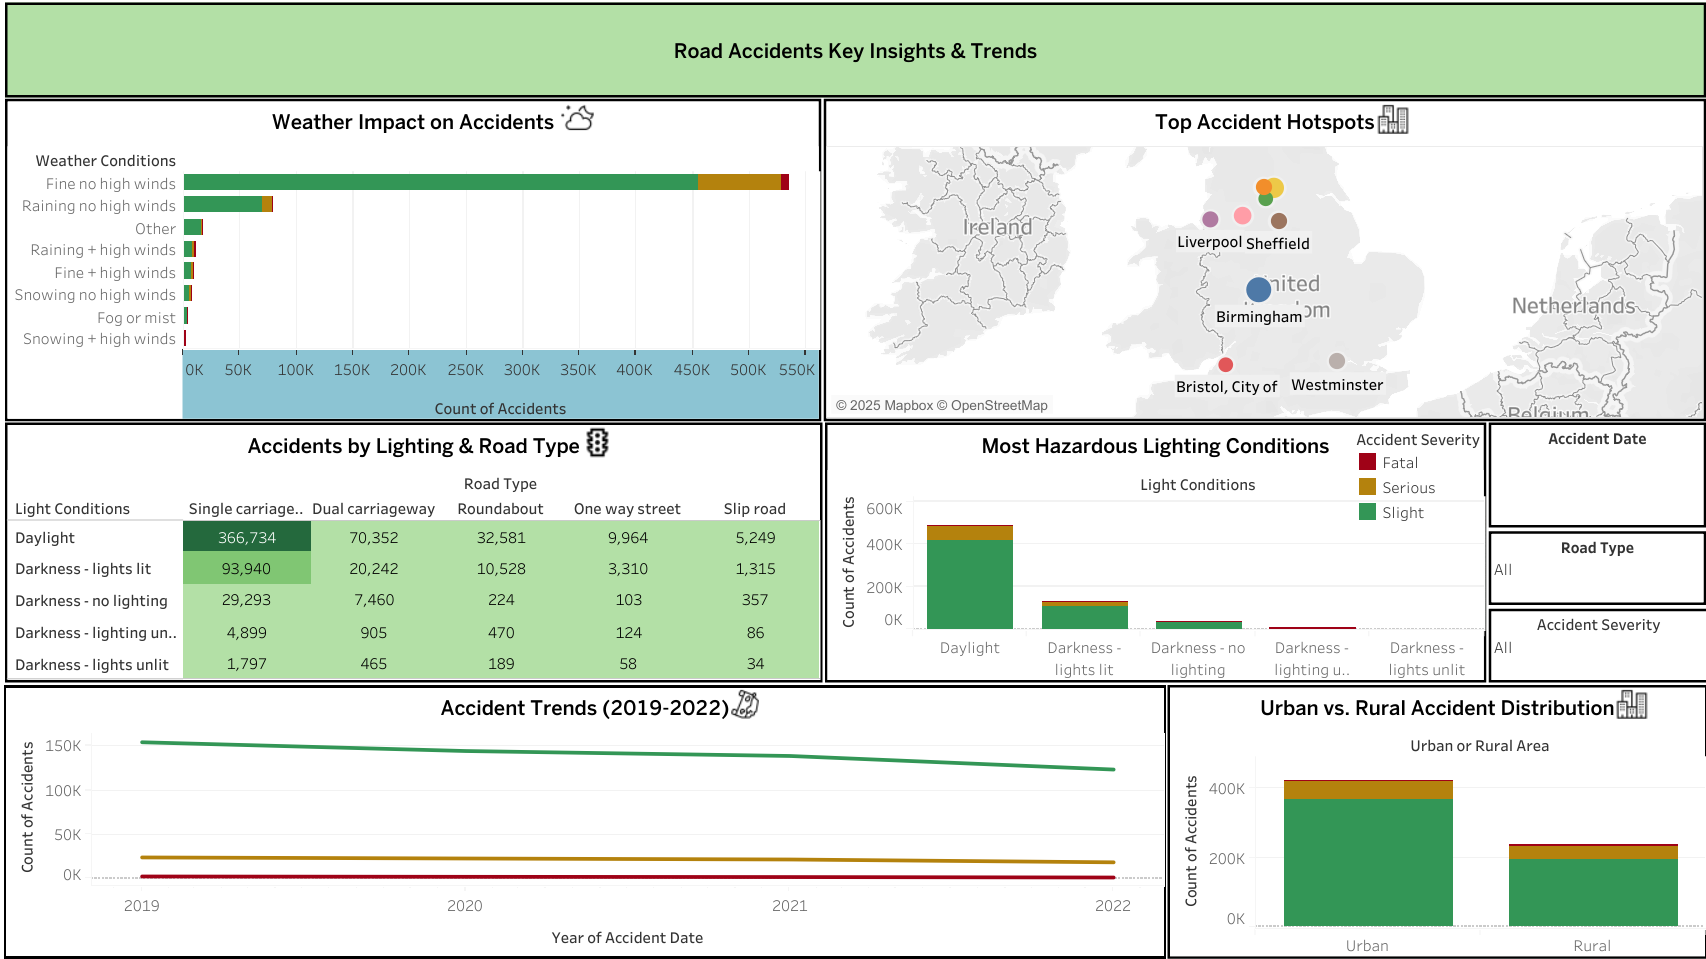

The page's visual inventory and layout, read from the dashboard file:
{"tool":"tableau","page":{"name":"Dashboard 1","canvas":[1366,768],"ordinal":0},"visuals":[{"type":"text","box":[4,2,1361,76]},{"type":"worksheet","title":"Weather Impact on Accidents ","mark":"Automatic","rows":["Weather_Conditions"],"cols":["Index"],"box":[4,79,653,258]},{"type":"worksheet","title":"Top Accident Hotspots ","mark":"Automatic","rows":["Latitude"],"cols":["Longitude"],"box":[659,79,706,258]},{"type":"image","param":"C:/Users/Administrator/Downloads/icons8-night-100.png","box":[448,81,42,28]},{"type":"image","param":"C:/Users/Administrator/Downloads/icons8-city-buildings-100 (2).png","box":[1101,82,28,27]},{"type":"worksheet","title":"Accidents by Lighting & Road Type","mark":"Square","rows":["Light_Conditions"],"cols":["Road_Type"],"box":[4,338,654,208]},{"type":"worksheet","title":"Most Hazardous Lighting Conditions ","mark":"Automatic","rows":["Index"],"cols":["Light_Conditions"],"box":[660,338,529,208]},{"type":"filter","title":"Weather Impact on Accidents ","param":"[federated.1kmvjg31wdhm231ewrnr31y4c3ax].[none:Accident Date:qk]","box":[1191,338,174,84]},{"type":"image","param":"C:/Users/Administrator/Downloads/icons8-traffic-light-32.png","box":[463,339,30,32]},{"type":"legend","title":"Most Hazardous Lighting Conditions ","param":"[federated.1kmvjg31wdhm231ewrnr31y4c3ax].[none:Accident_Severity:nk]","box":[1084,340,102,79]},{"type":"filter","title":"Urban vs. Rural Accident Distribution ","param":"[federated.1kmvjg31wdhm231ewrnr31y4c3ax].[none:Road_Type:nk]","box":[1191,425,174,59]},{"type":"filter","title":"Accident Trends (2019-2022) ","param":"[federated.1kmvjg31wdhm231ewrnr31y4c3ax].[mn:Accident Date:ok]","box":[404,465,170,65]},{"type":"filter","title":"Most Hazardous Lighting Conditions ","param":"[federated.1kmvjg31wdhm231ewrnr31y4c3ax].[none:Accident_Severity:nk]","box":[1191,487,176,59]},{"type":"worksheet","title":"Accident Trends (2019-2022) ","mark":"Automatic","rows":["Index"],"cols":["Accident Date"],"box":[3,548,930,219]},{"type":"worksheet","title":"Urban vs. Rural Accident Distribution ","mark":"Automatic","rows":["Index"],"cols":["Urban_or_Rural_Area"],"box":[934,548,432,219]},{"type":"image","param":"C:/Users/ADMINI~1/AppData/Local/Temp/TableauTemp/1szf7ei0sukdg715kyzlg1ltds11/Sh","box":[1292,550,28,27]},{"type":"image","param":"C:/Users/Administrator/Downloads/icons8-traffic-accident-100.png","box":[584,551,30,25]}]}

Visuals, with their boxes in screenshot pixels (x1, y1, x2, y2), scaled from the page's 1366x768 canvas onto the 1706x959 screenshot:
text: <region>5, 2, 1705, 97</region>
"Weather Impact on Accidents " worksheet: <region>5, 99, 821, 421</region>
"Top Accident Hotspots " worksheet: <region>823, 99, 1705, 421</region>
image: <region>560, 101, 612, 136</region>
image: <region>1375, 102, 1410, 136</region>
"Accidents by Lighting & Road Type" worksheet (Square marks): <region>5, 422, 822, 682</region>
"Most Hazardous Lighting Conditions " worksheet: <region>824, 422, 1485, 682</region>
"Weather Impact on Accidents " filter: <region>1487, 422, 1705, 527</region>
image: <region>578, 423, 616, 463</region>
"Most Hazardous Lighting Conditions " legend: <region>1354, 425, 1481, 523</region>
"Urban vs. Rural Accident Distribution " filter: <region>1487, 531, 1705, 604</region>
"Accident Trends (2019-2022) " filter: <region>505, 581, 717, 662</region>
"Most Hazardous Lighting Conditions " filter: <region>1487, 608, 1705, 682</region>
"Accident Trends (2019-2022) " worksheet: <region>4, 684, 1165, 958</region>
"Urban vs. Rural Accident Distribution " worksheet: <region>1166, 684, 1705, 958</region>
image: <region>1614, 687, 1649, 720</region>
image: <region>729, 688, 767, 719</region>
